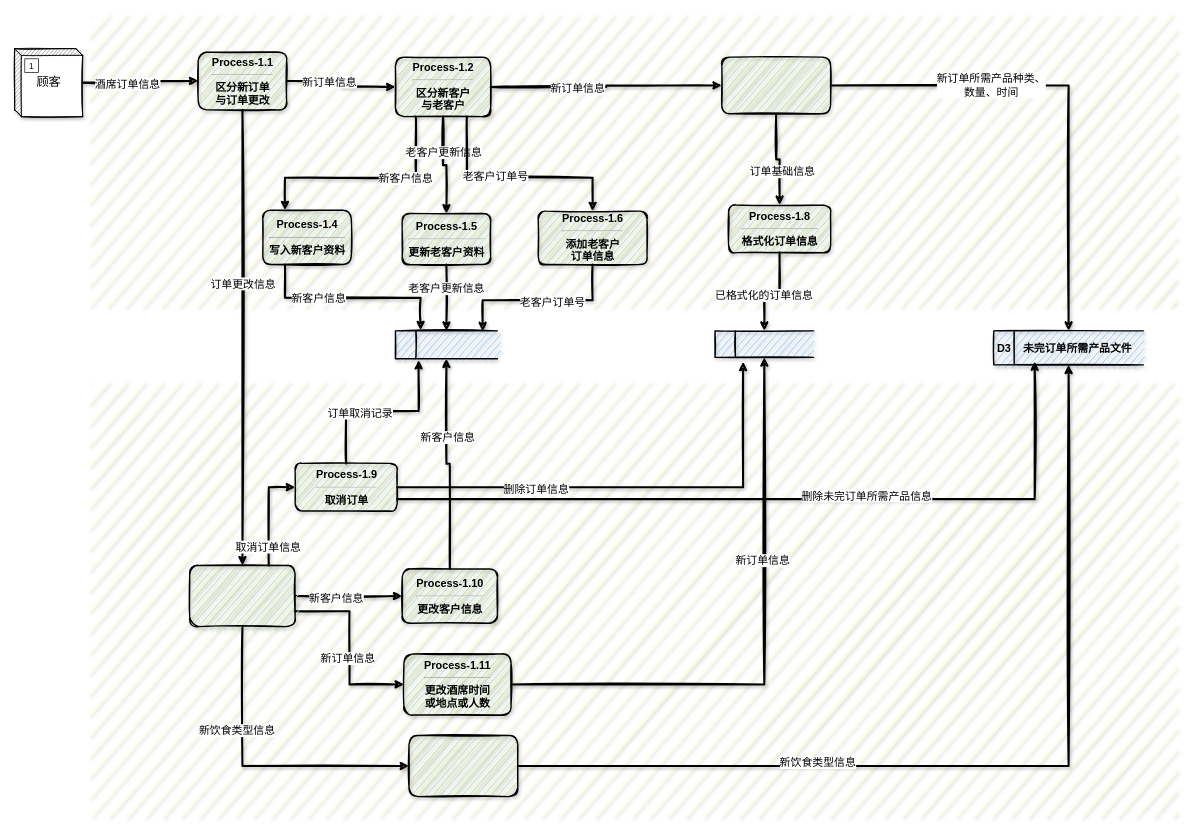
Image size: 1193x833. Some labels were removed from this diagram. Here are the shapes that lost their labels. From the top down, the centre of each, then its label:
At pixel 776 86: "Process-1.7 抽取订单所需 产品信息".
At pixel 447 345: "D1 客户信息文件".
At pixel 764 344: "D2 订单信息文件".
At pixel 243 597: "Process-1.3 判断订单更改种类".
At pixel 463 767: "Process-1.12 更改饮食类型信息".
